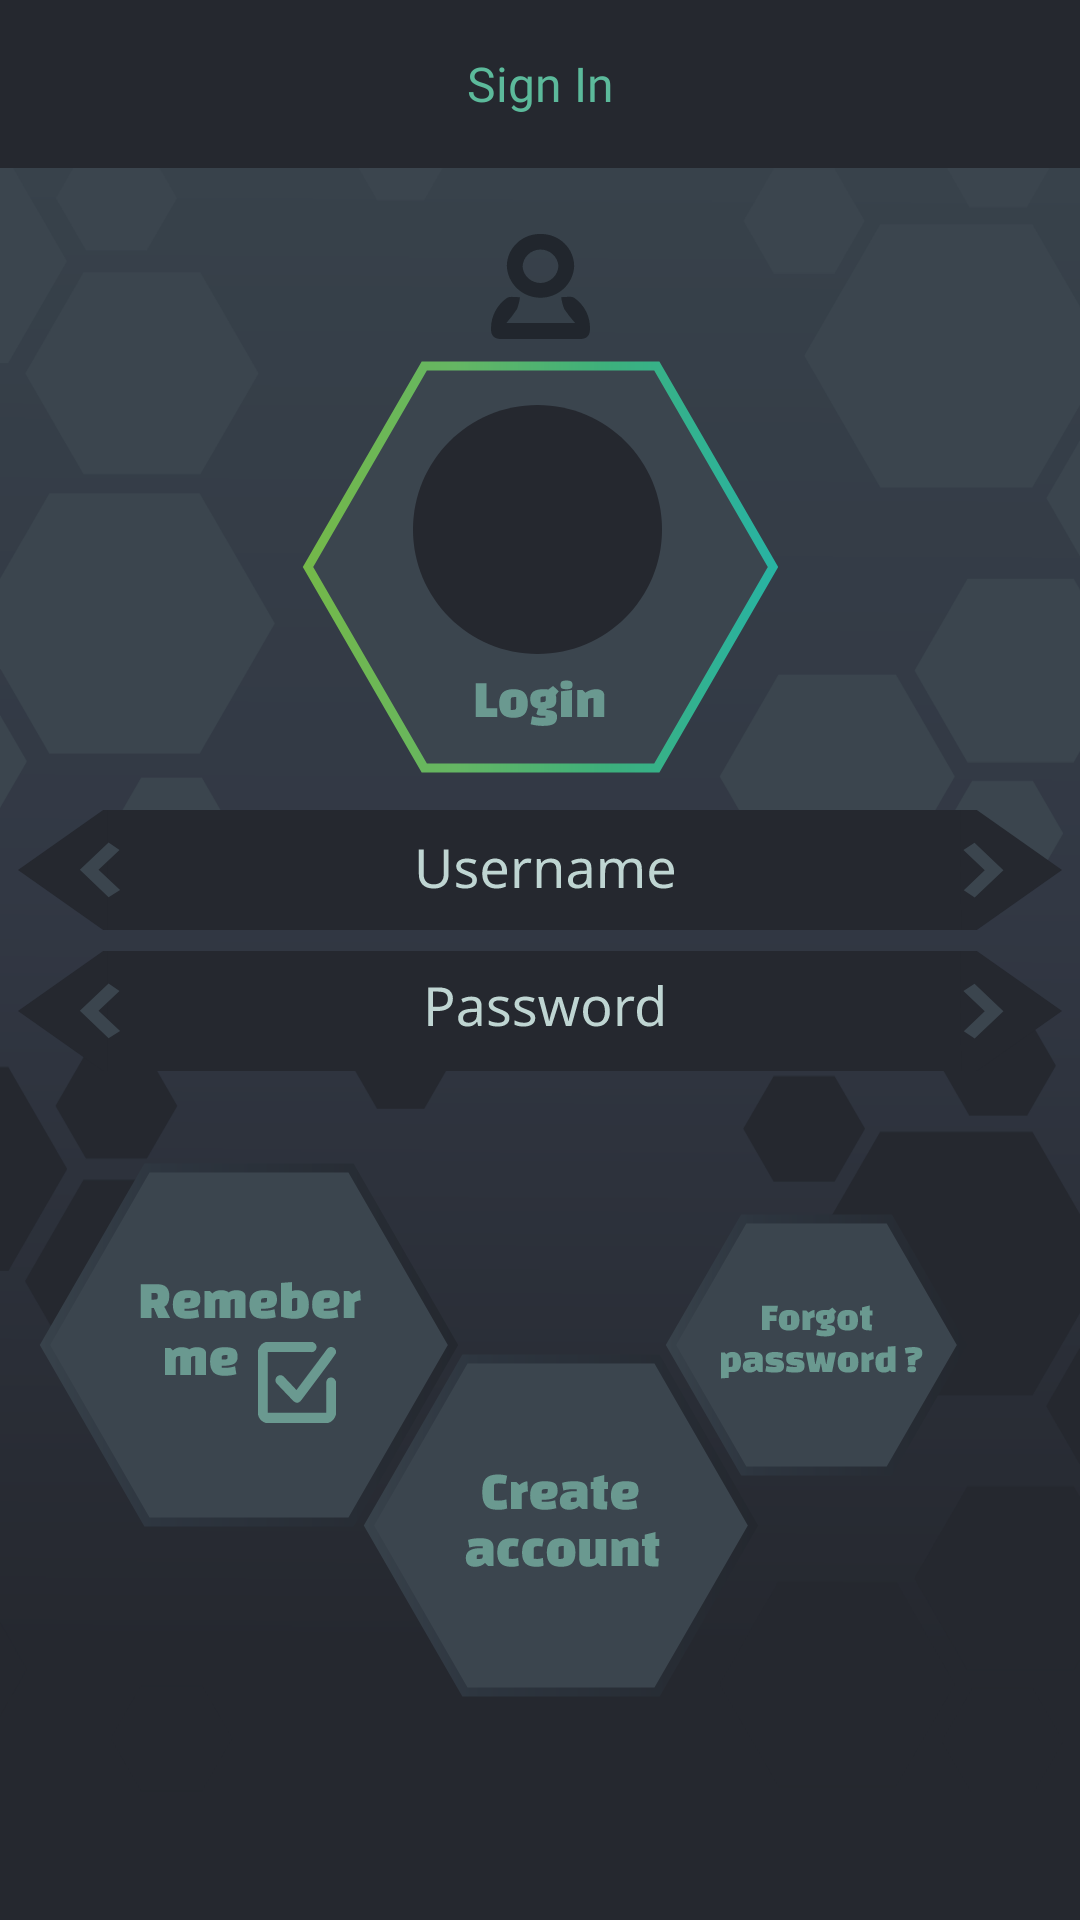

Locate icon controls on the screen. Image size 1080 x 1920, boxes as [x1=x1, y1=y1, x2=x2, y2=y2].
account: [x1=491, y1=234, x2=590, y2=339]
